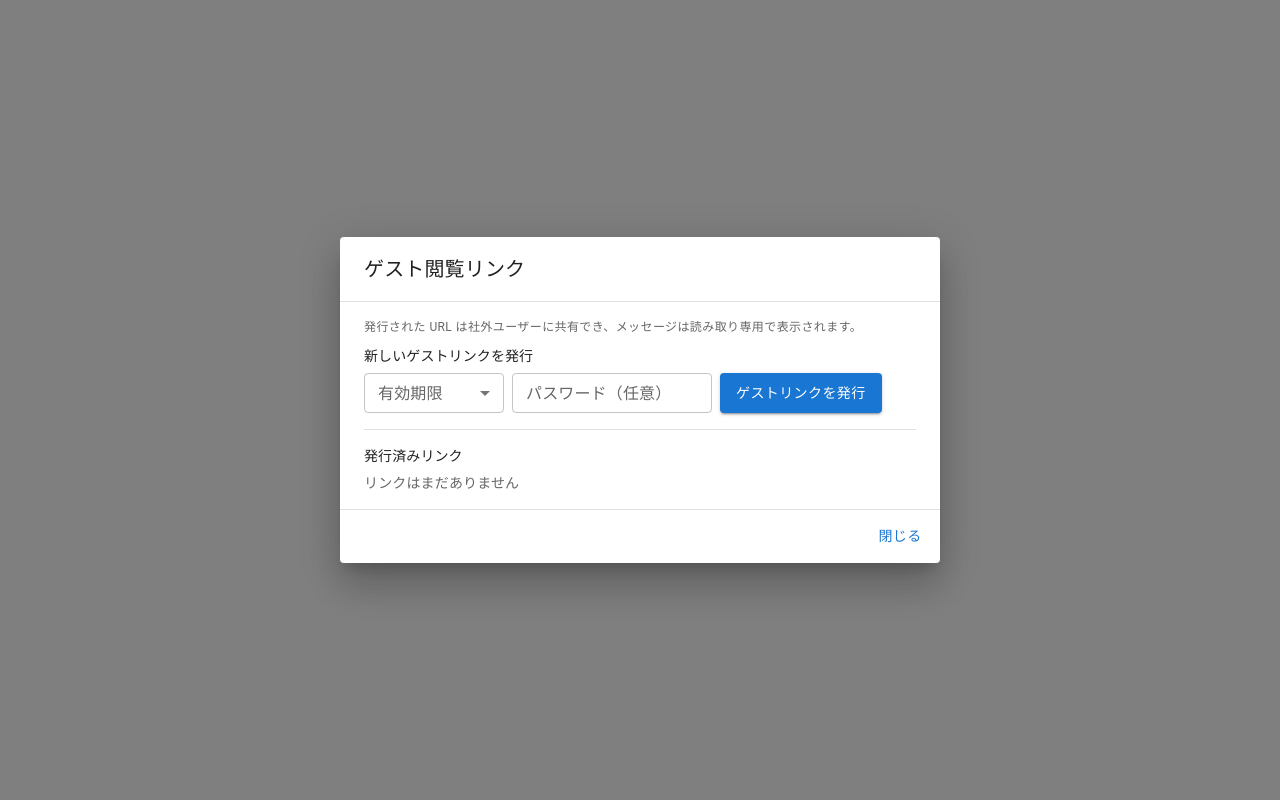
Scenario: GuestLinkDialog › リンク発行 › 発行されたリンクが /g/:token 形式の URL でダイアログ内に表示される
Click the button "ゲストリンクを発行": {"x": 801, "y": 393} 720,373 -> 882,413
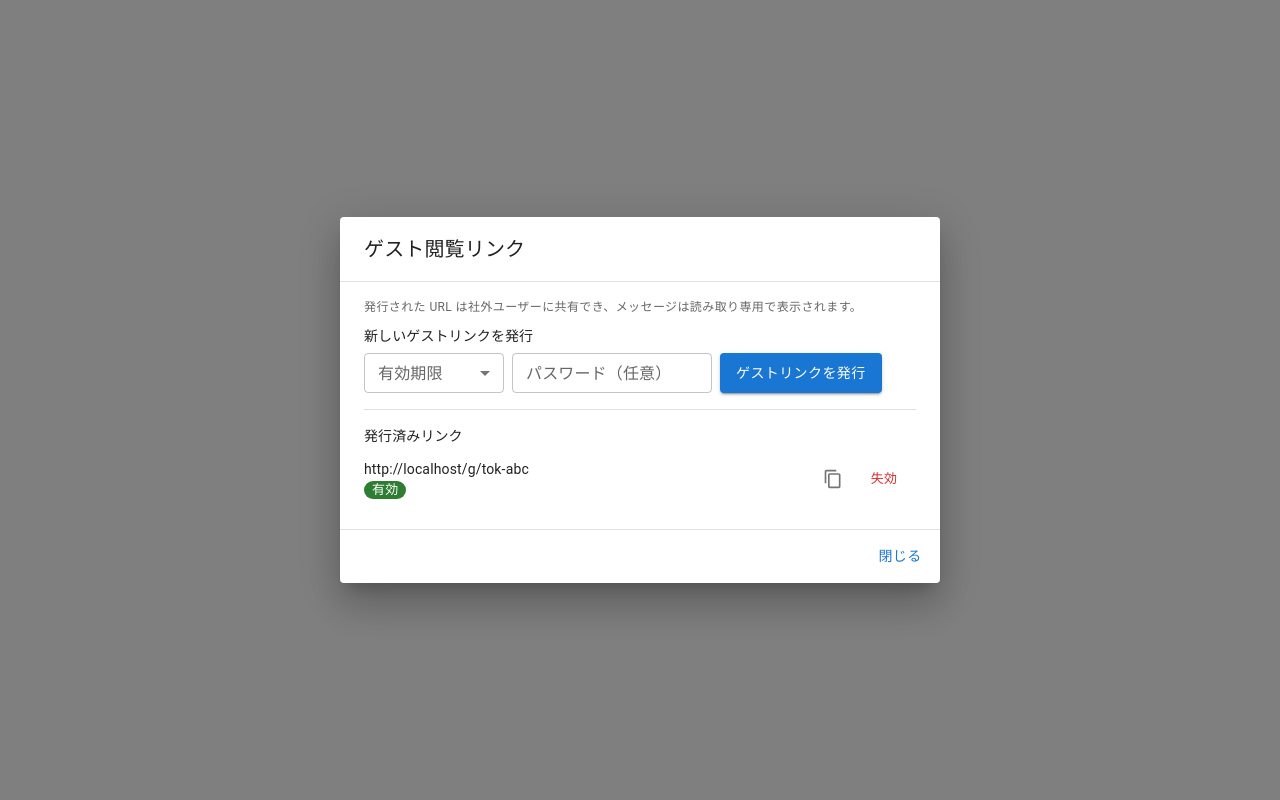
Expected: the text "http://localhost/g/tok-abc" is shown, 364,459 -> 529,479
